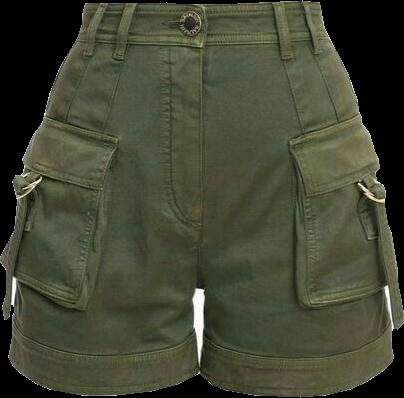Hemline: (7, 353, 199, 397), (197, 357, 396, 397)
Pantleg: (197, 1, 403, 396), (0, 3, 206, 395)
Waistline: (75, 36, 330, 49), (84, 0, 321, 9)
